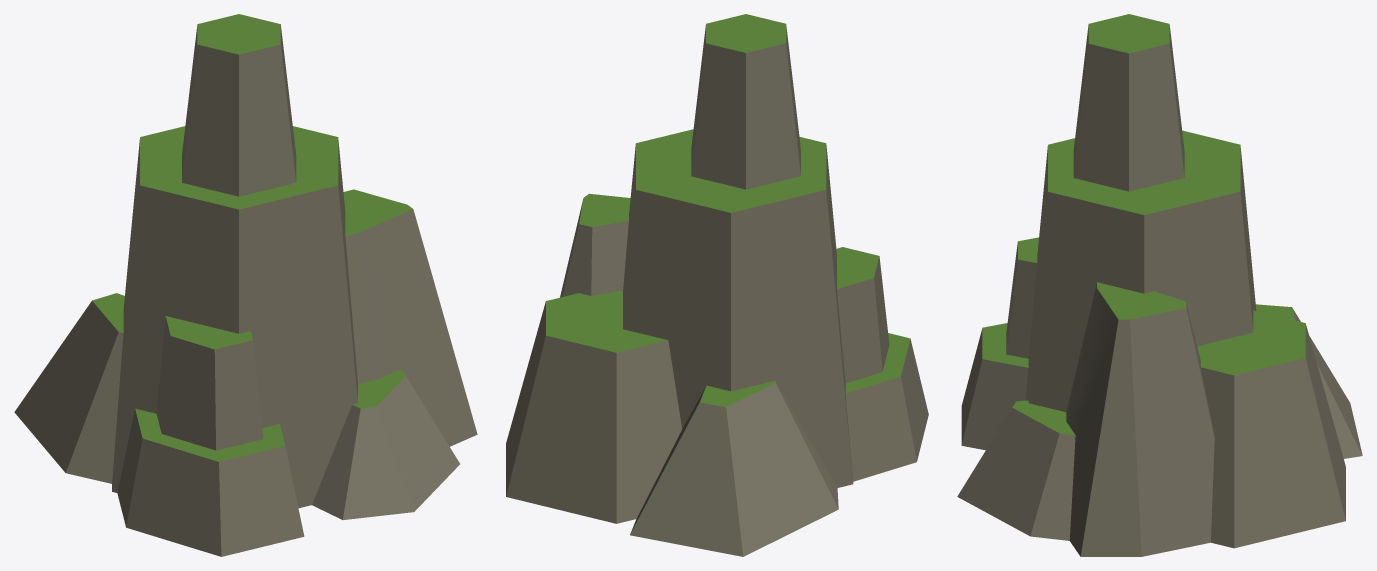
File: rock_b.glb
3 renders of one model, left to right at view 1: azimuth 30°, elevation 25°; view 2: azimuth 150°, elevation 25°; view 3: azimuth 270°, elevation 25°, orthographic. The views are drawn at different scales.
Visible parts, largest first — view 1: rock_tallB; view 2: rock_tallB; view 3: rock_tallB.
Part boxes in pixels (box(x1,y1,x2,y2)): rock_tallB: box(14, 14, 477, 556); rock_tallB: box(506, 14, 928, 556); rock_tallB: box(957, 14, 1362, 556).
Bounding box in the file's own units: 0.7648 × 0.8838 × 0.77.
